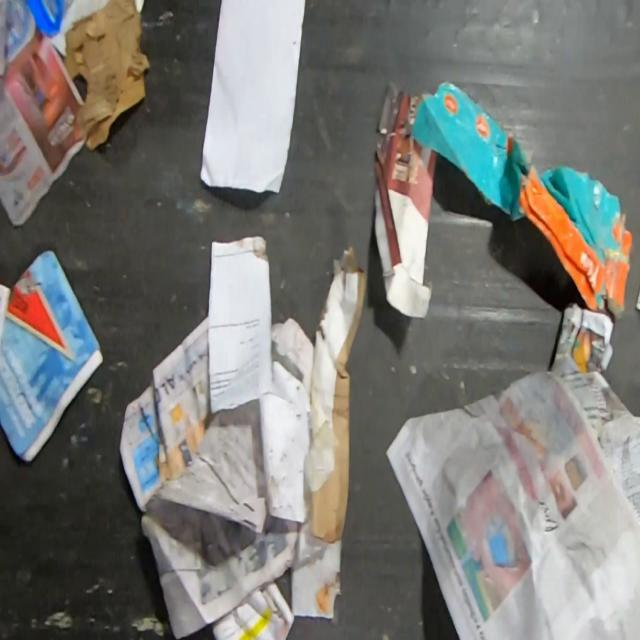cardboard: (410, 80, 634, 324), (257, 242, 370, 544), (372, 78, 439, 321), (64, 0, 152, 154)
soft_plastic: (24, 0, 66, 38)
